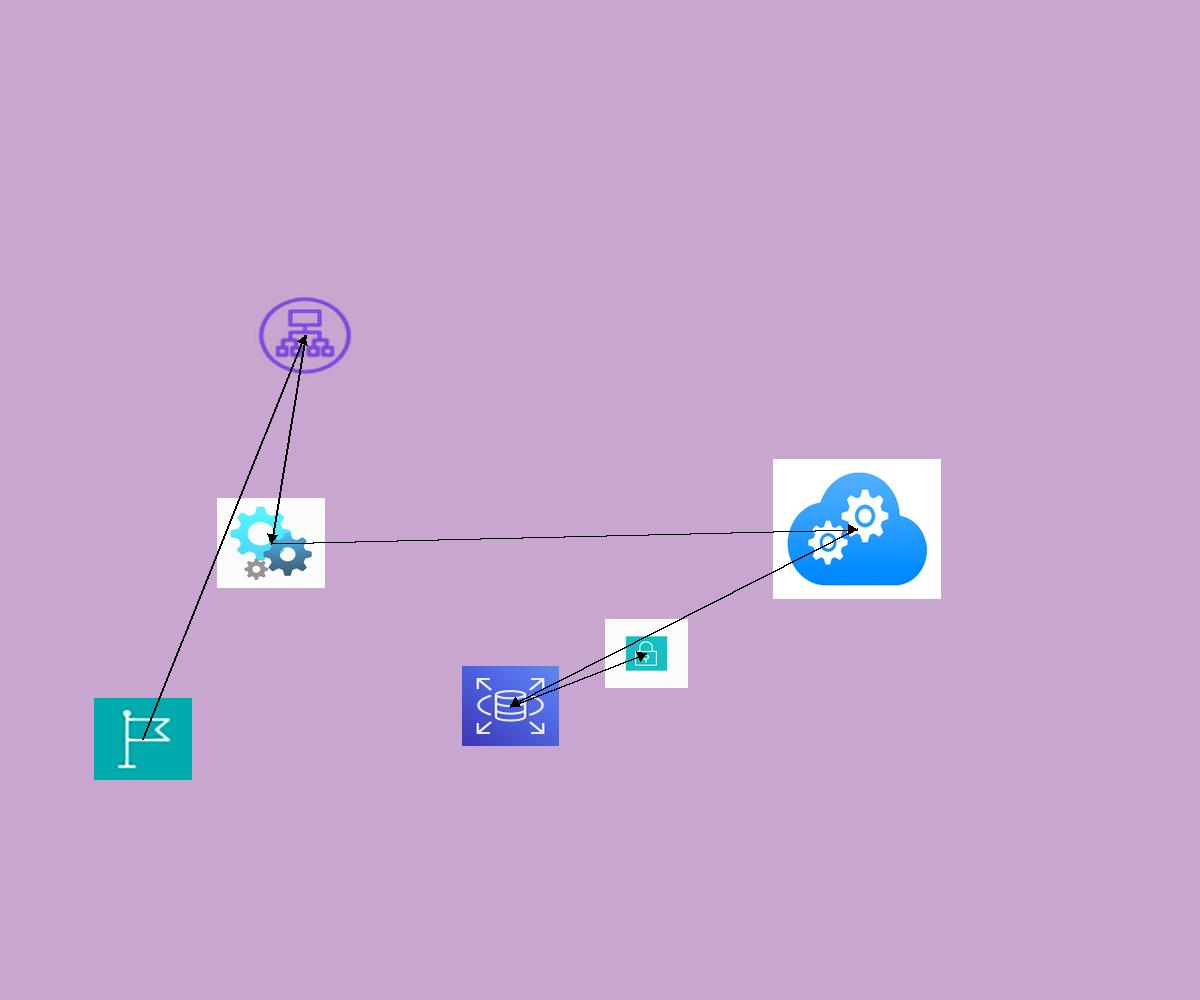AWS-Private-subnet: (605, 619, 688, 688)
AWS-RDS: (462, 666, 559, 746)
AWS-Region: (94, 698, 192, 780)
AWS-Res_Elastic-Load-Balancing_Application-Load-Balancer: (255, 294, 355, 377)
Azure_api: (217, 498, 325, 588)
Azure_cloud_services: (773, 459, 941, 599)
